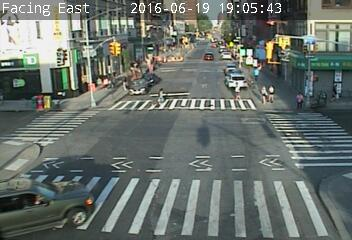neg: (264, 153, 291, 188), (59, 186, 84, 220), (314, 142, 338, 174), (70, 139, 94, 170), (16, 85, 37, 113), (229, 135, 250, 163), (258, 24, 279, 51), (64, 68, 83, 93), (202, 83, 220, 107), (197, 105, 215, 129), (118, 29, 136, 52), (182, 23, 199, 45), (222, 22, 237, 41), (94, 39, 108, 58), (183, 57, 191, 68)
pos: (257, 83, 273, 103), (294, 90, 308, 110), (231, 80, 245, 98), (328, 83, 342, 101), (267, 82, 280, 100), (154, 88, 166, 105), (251, 67, 262, 81)
